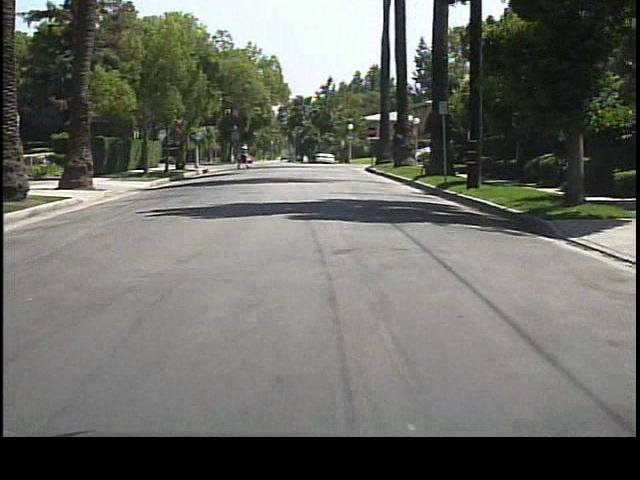person: (237, 140, 252, 172)
